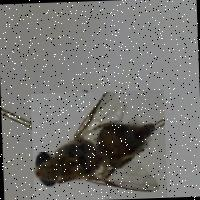Oriental-fruit-fly: (29, 88, 166, 200)
